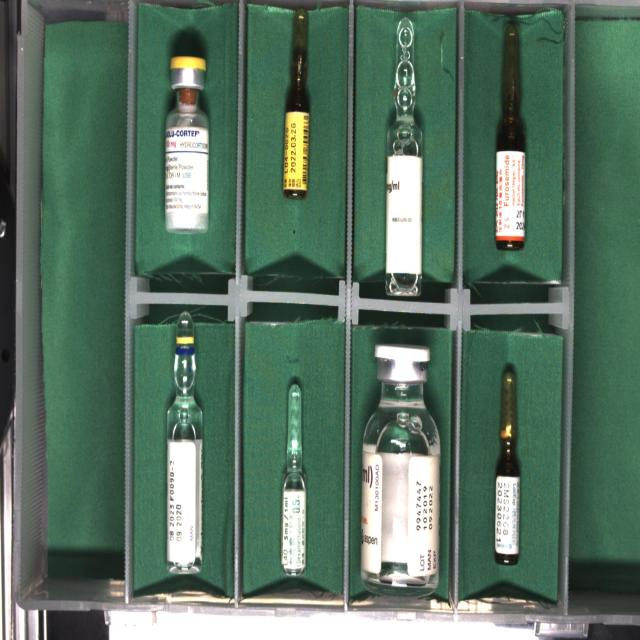Vials: (361, 345, 440, 593), (165, 56, 209, 232), (190, 100, 196, 106)
